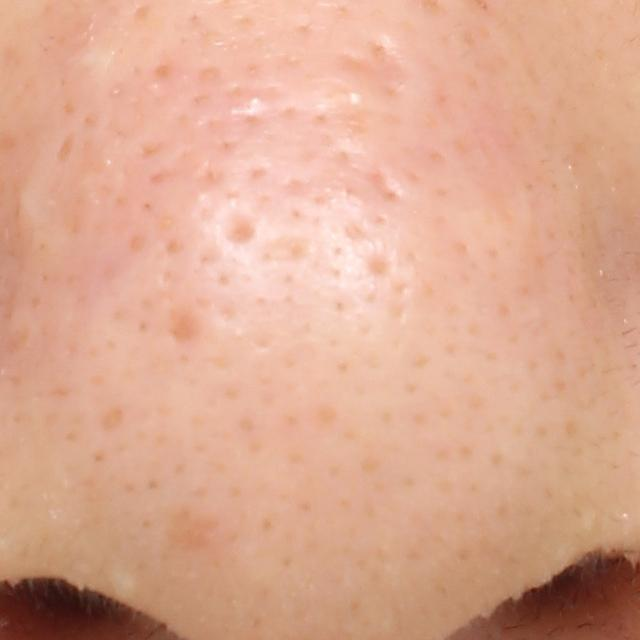atrophic_scar: (328, 28, 419, 104), (161, 297, 212, 356), (218, 204, 268, 256), (372, 164, 411, 206)
